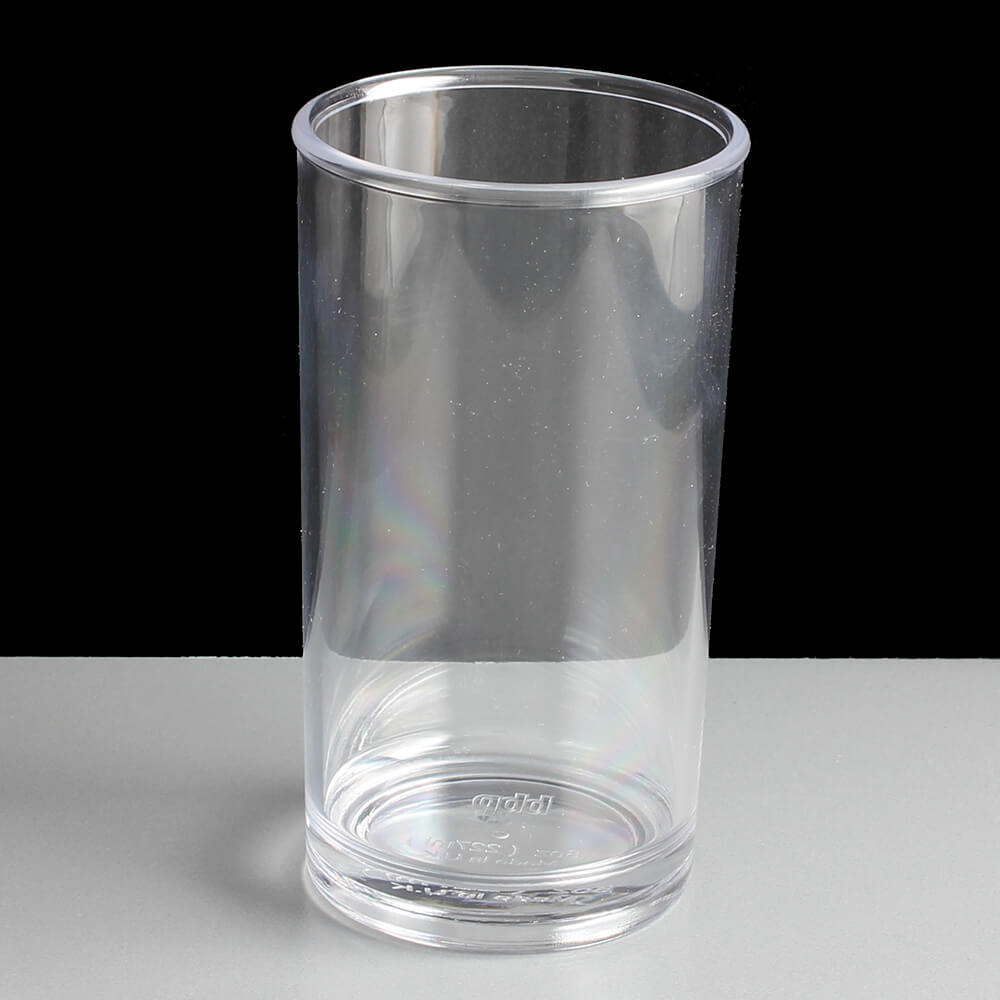plastic_glass: (272, 51, 756, 957)
